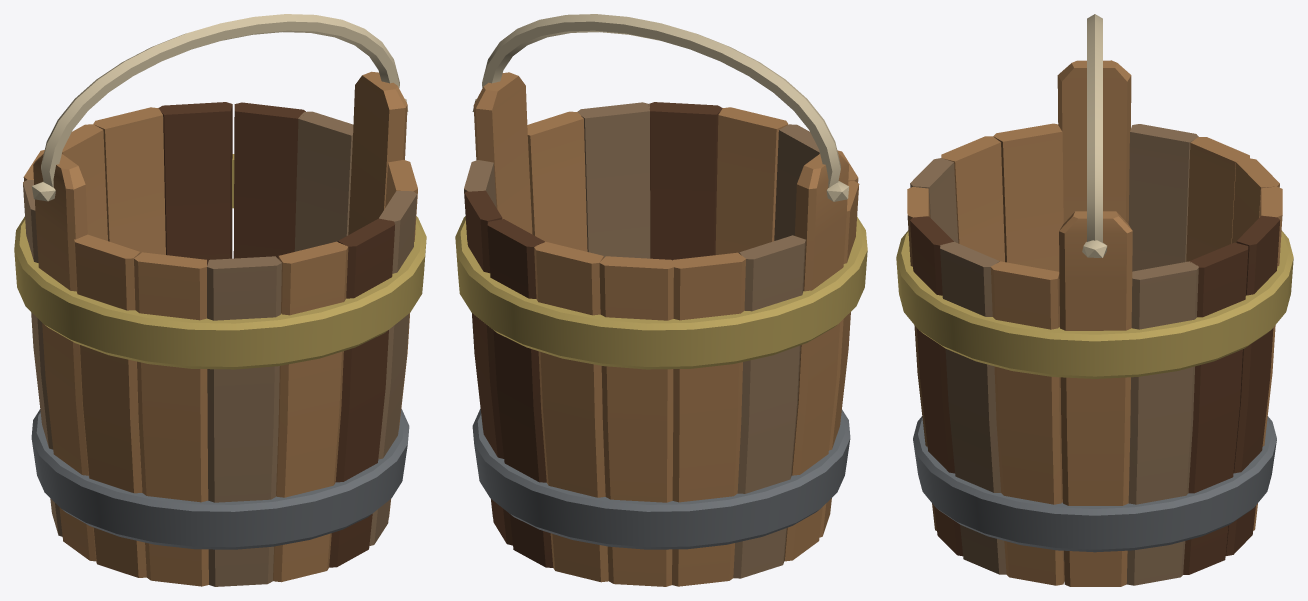
File: bucket.glb
3 renders of one model, left to right at view 1: azimuth 30°, elevation 25°; view 2: azimuth 150°, elevation 25°; view 3: azimuth 270°, elevation 25°, orthographic. The views are drawn at different scales.
Parts seen in each view (by area): view 1: bucket; view 2: bucket; view 3: bucket.
Part boxes in pixels (x1,y1,x2,y2): bucket: (14, 14, 426, 586); bucket: (455, 14, 867, 586); bucket: (896, 14, 1293, 586).
Size of what is drawn, in the model's own units: 0.3305 by 0.4175 by 0.3178.
